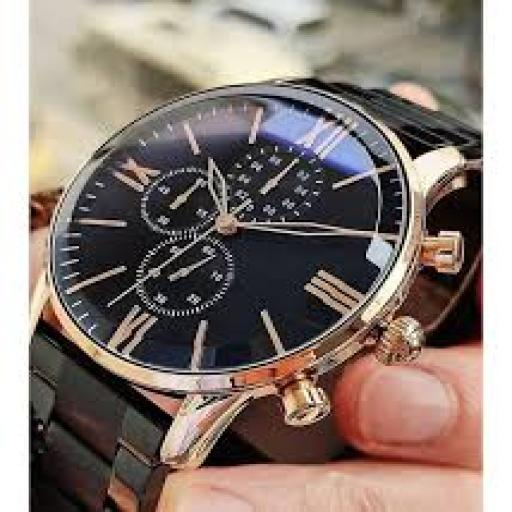KolSaati: (32, 59, 481, 512)
